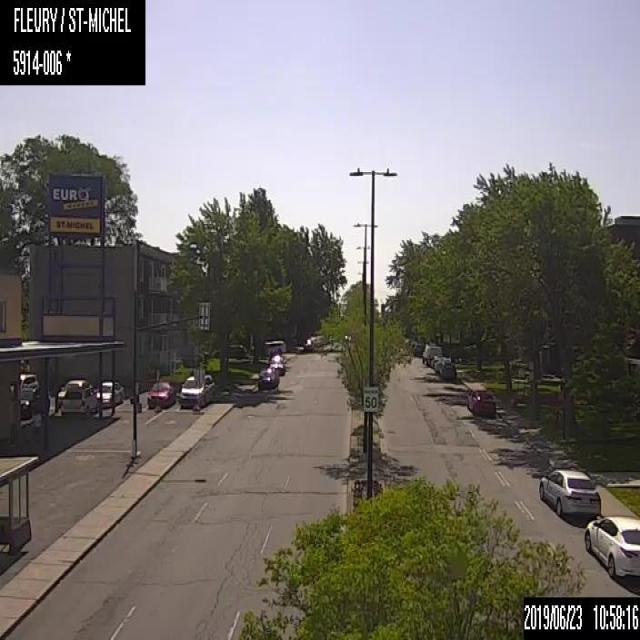vehicle: (583, 512, 639, 582), (536, 463, 602, 522), (60, 382, 100, 418), (178, 370, 214, 409), (146, 378, 175, 410), (96, 378, 124, 409), (472, 390, 496, 418), (18, 374, 40, 404), (421, 342, 442, 366), (256, 369, 277, 389), (268, 354, 285, 374), (440, 362, 456, 382), (302, 336, 314, 349)
